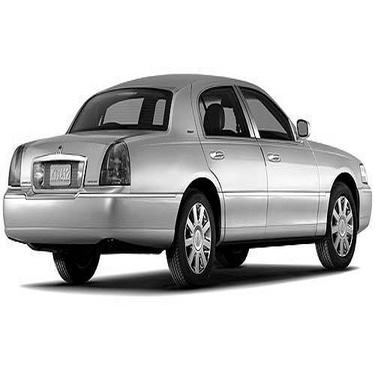car: (1, 72, 373, 294)
